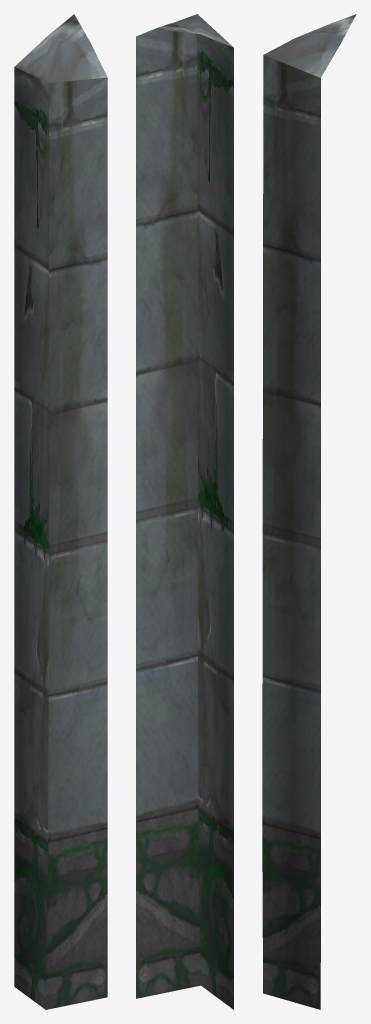
File: stemple_wall_convex_01.fbx
3 renders of one model, left to right at view 1: azimuth 30°, elevation 25°; view 2: azimuth 210°, elevation 25°; view 3: azimuth 330°, elevation 25°, orthographic. The views are drawn at different scales.
Visible parts, largest first — view 1: sunken_tileset/sunken_wall_straight01_mat; view 2: sunken_tileset/sunken_wall_straight01_mat; view 3: sunken_tileset/sunken_wall_straight01_mat.
Boxes of the visible parts, <box> form: sunken_tileset/sunken_wall_straight01_mat: <box>14,14,107,1009</box>; sunken_tileset/sunken_wall_straight01_mat: <box>136,14,233,1009</box>; sunken_tileset/sunken_wall_straight01_mat: <box>262,14,356,1009</box>.
Bounding box in the file's own units: 0.4235 × 6.37 × 0.4224.
